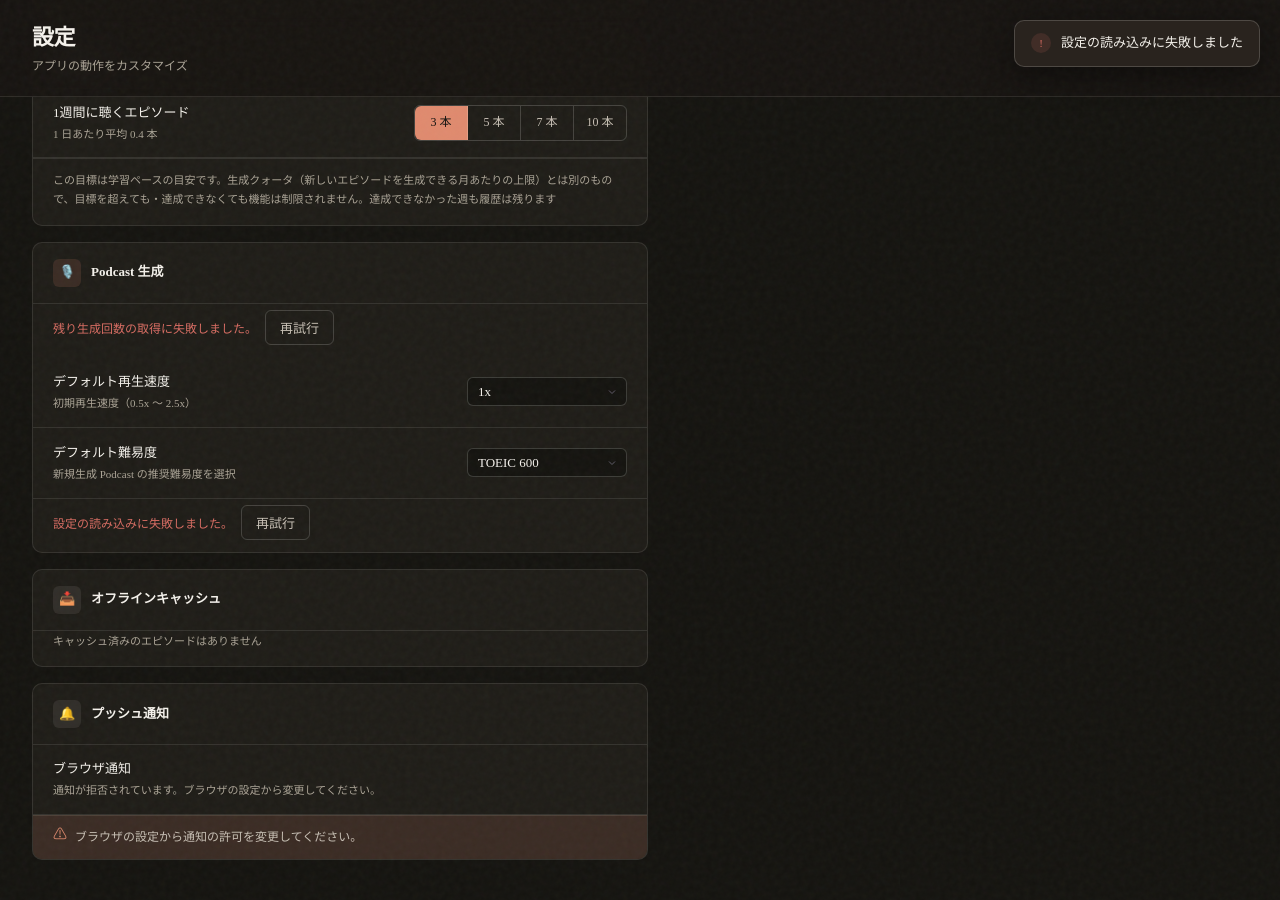
Scenario: SettingsPage — default difficulty (C群#13) › Given retry button clicked after getPreferences failure, refetches and clears the error on success
The image size is (1280, 900).
(page scrolled)
Click the button with aria-label "設定を再読み込み". click: (276, 522)
box: x1=241 y1=505 x2=310 y2=540
(page scrolled)
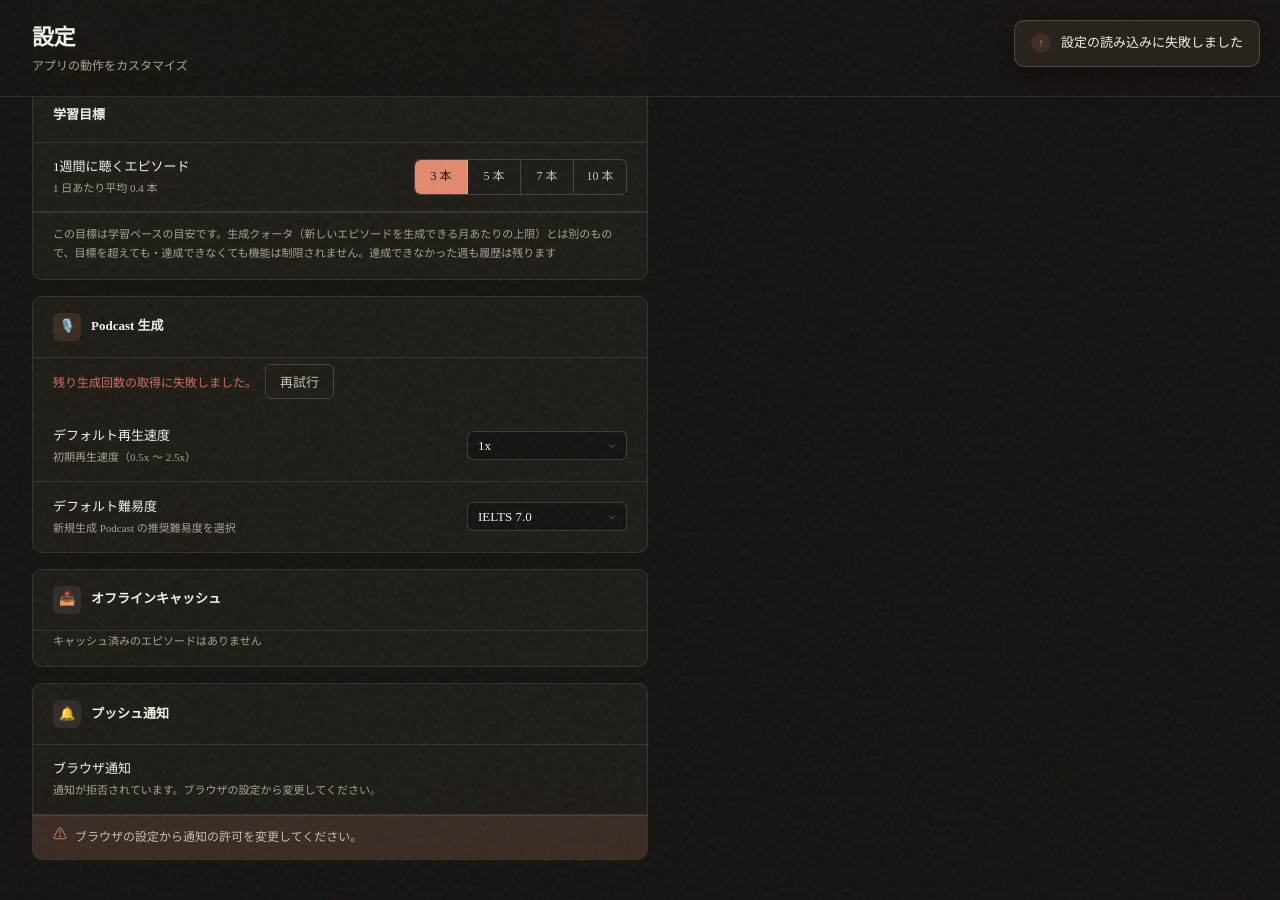
Result: the button "設定を再読み込み" is gone
Result: the dropdown labelled "デフォルト難易度" shows "IELTS 7.0" at x1=467 y1=502 x2=627 y2=531
